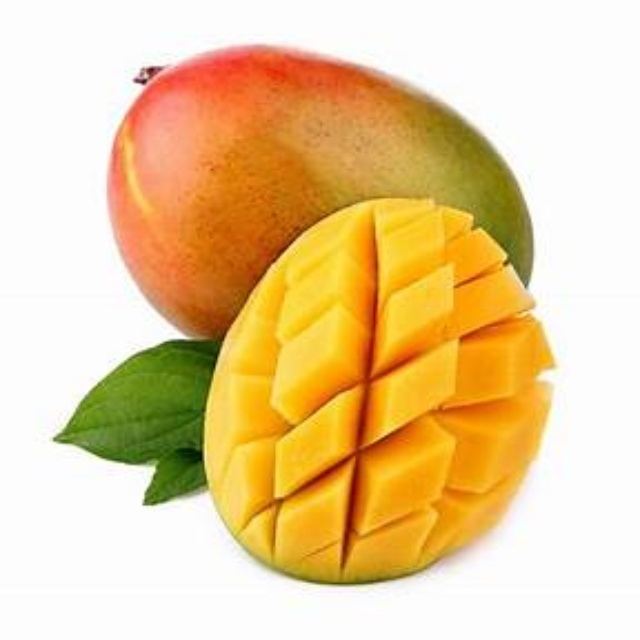mango: (209, 196, 557, 586), (105, 45, 529, 326)
